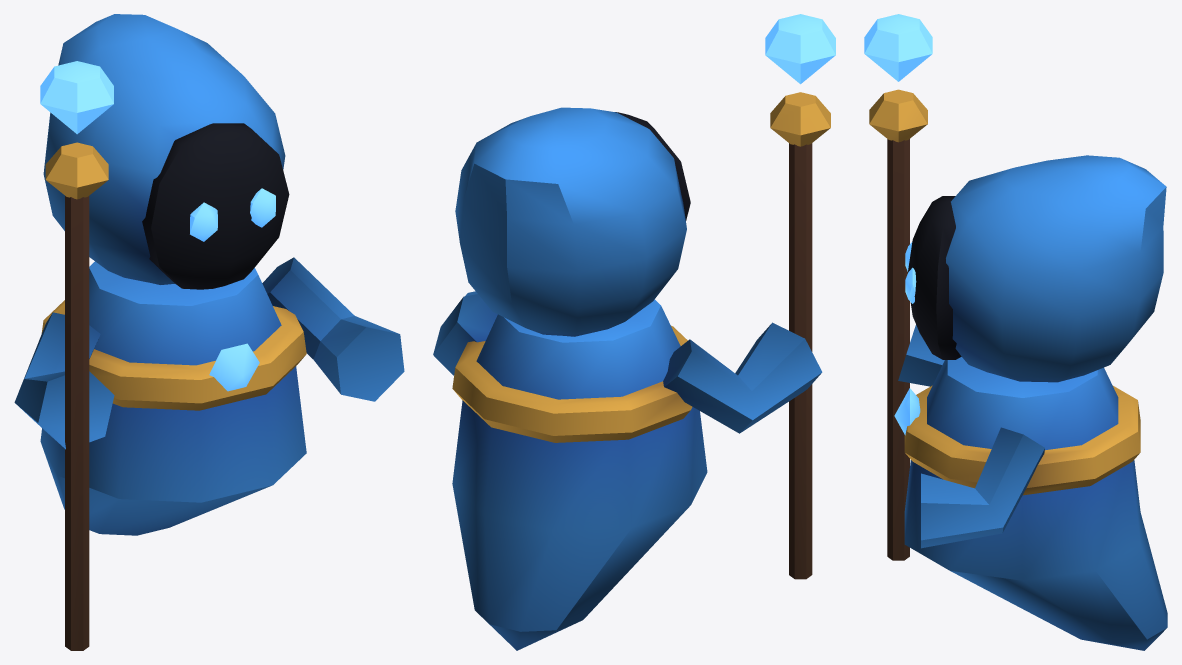
File: minion_ranged.glb
The picture shows the model from 3 angles, left to right: view 1: azimuth 30°, elevation 25°; view 2: azimuth 150°, elevation 25°; view 3: azimuth 270°, elevation 25°; orthographic projection. The views are drawn at different scales.
Visible parts, largest first — view 1: torso, head, arm_r, arm_l, focus; view 2: torso, head, arm_r, focus, arm_l; view 3: torso, head, arm_r, arm_l, focus.
Part boxes in pixels (x1,y1,x2,y2): torso: (40,261,306,535); head: (43,14,289,289); arm_r: (14,142,114,650); arm_l: (262,257,404,401); focus: (40,61,113,134); torso: (452,299,707,650); head: (455,107,690,336); arm_r: (663,92,830,579); focus: (765,14,835,84); arm_l: (433,291,497,375); torso: (894,357,1167,650); head: (905,155,1166,382); arm_r: (869,89,944,560); arm_l: (921,427,1044,548); focus: (864,14,932,81).
Bounding box in the file's own units: 0.7142 × 1.09 × 0.5377.
